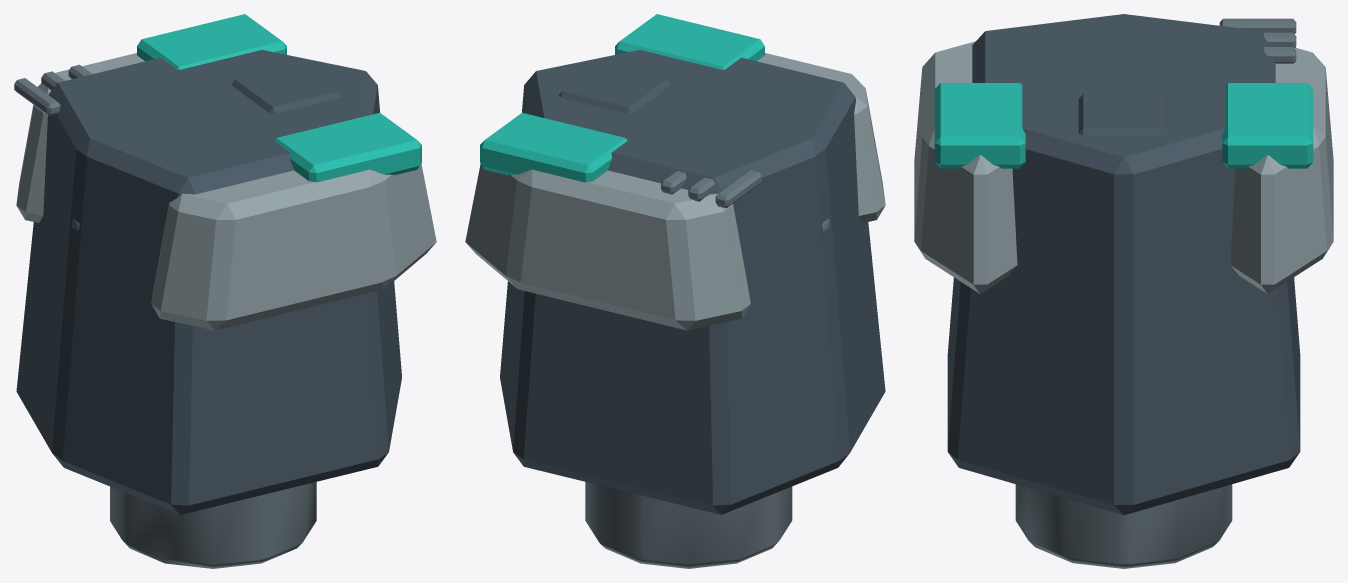
File: SM_Ember_Body.fbx
3 views of the same model, side by side, from view 1: azimuth 30°, elevation 25°; view 2: azimuth 150°, elevation 25°; view 3: azimuth 270°, elevation 25° (orthographic). The views are drawn at different scales.
Parts seen in each view (by area): view 1: SM_Ember_Body; view 2: SM_Ember_Body; view 3: SM_Ember_Body.
Part boxes in pixels (left/top/right/bottom): SM_Ember_Body: left=14, top=14, right=436, bottom=568; SM_Ember_Body: left=465, top=14, right=885, bottom=568; SM_Ember_Body: left=914, top=14, right=1333, bottom=568.
Bounding box in the file's own units: 26.96 × 27.02 × 32.19.
